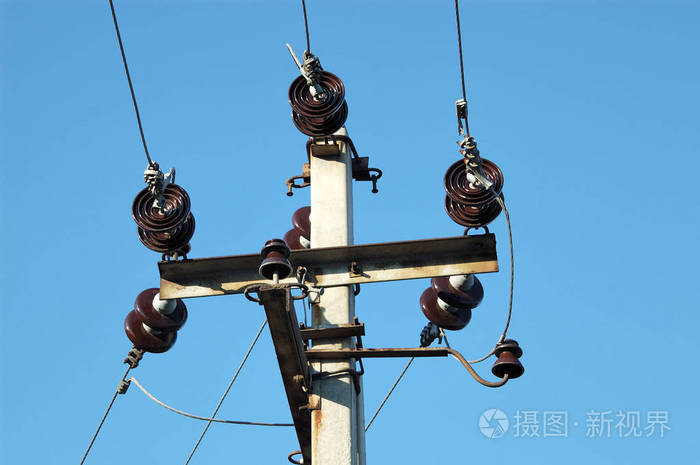insulator: (129, 186, 199, 251), (443, 158, 504, 230), (285, 72, 348, 139), (123, 289, 185, 354), (420, 273, 485, 330)
